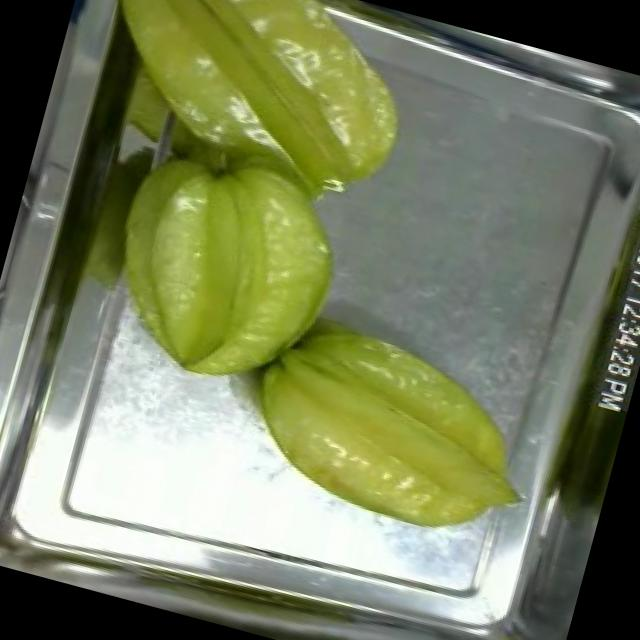fruit: (221, 294, 558, 557), (78, 123, 371, 414), (66, 0, 446, 221)
